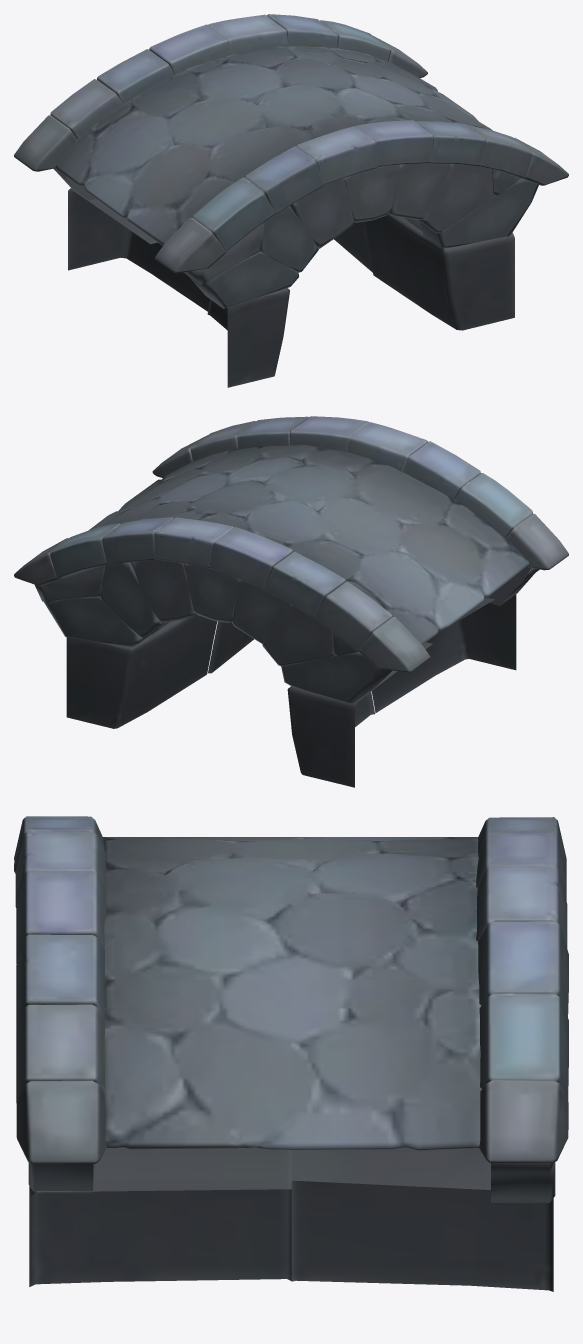
The model's file is bridge-stone.glb.
3 renders of one model, top to bottom at view 1: azimuth 30°, elevation 25°; view 2: azimuth 150°, elevation 25°; view 3: azimuth 270°, elevation 25°, orthographic. The views are drawn at different scales.
Size of the model in its own units: 40.69 by 20.79 by 30.08.
Materials: 1 (1 with a texture image).
